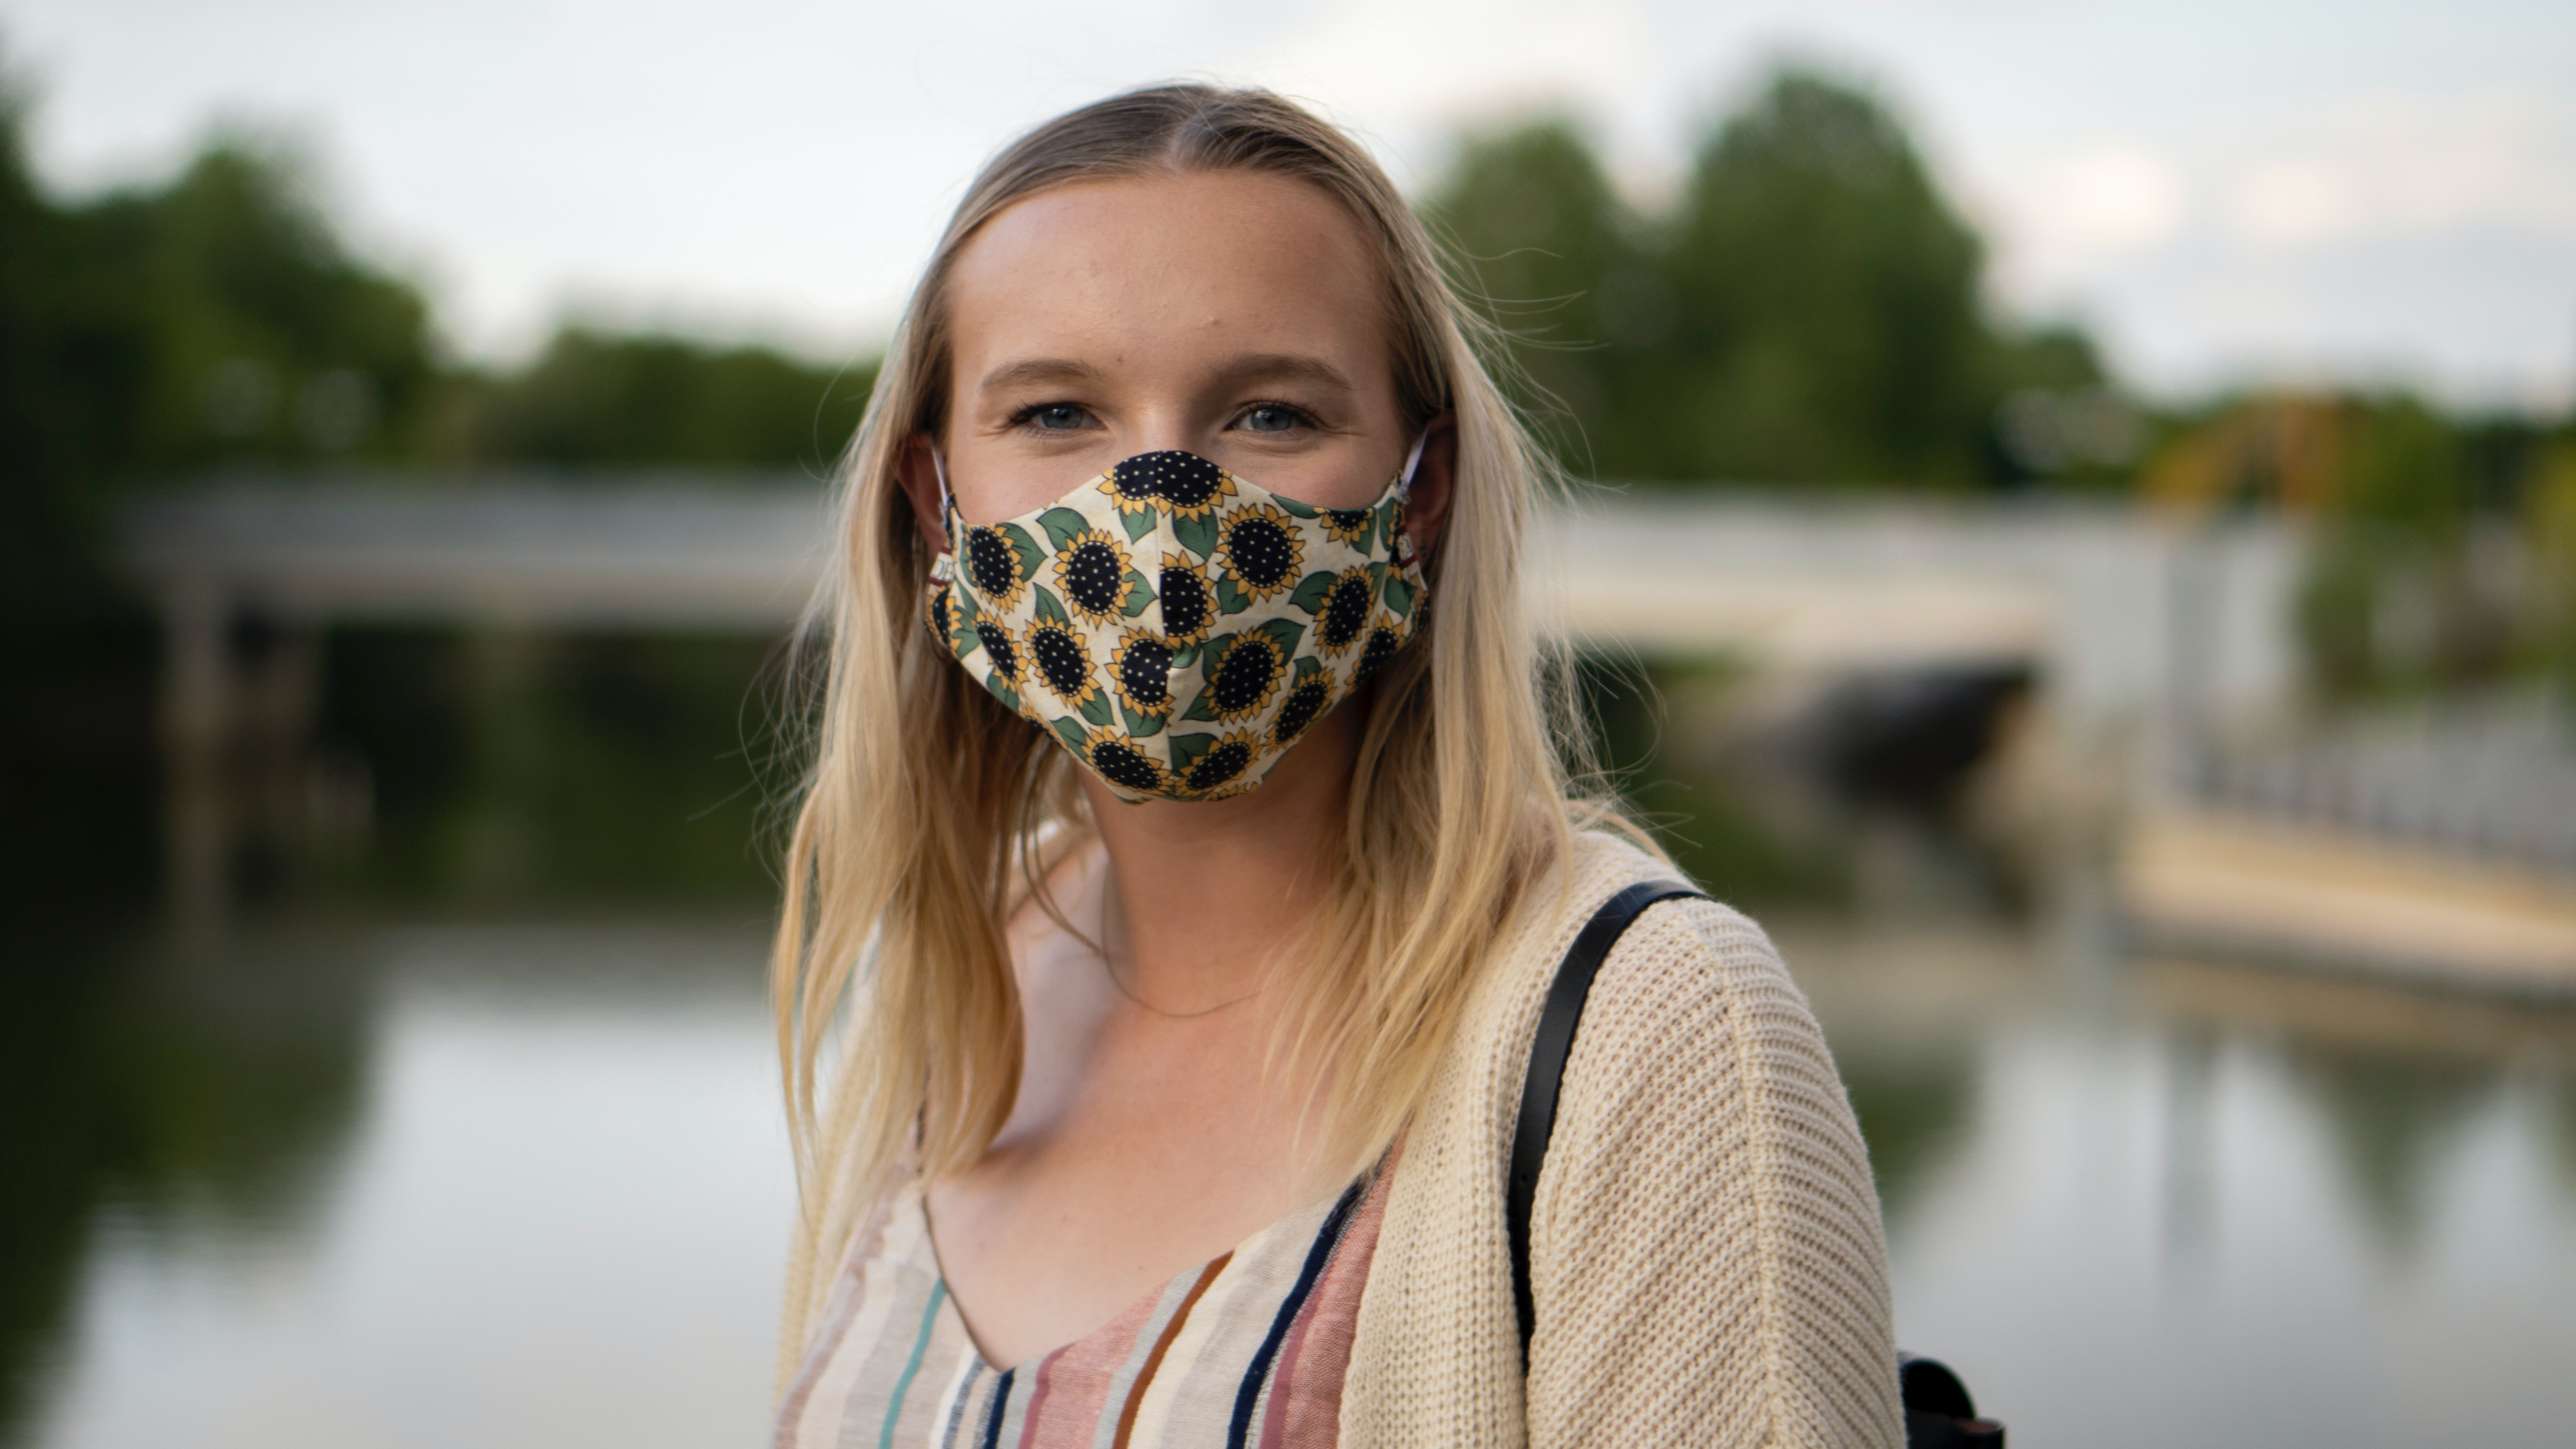mask: (895, 436, 1508, 826)
person: (735, 96, 1997, 1449)
